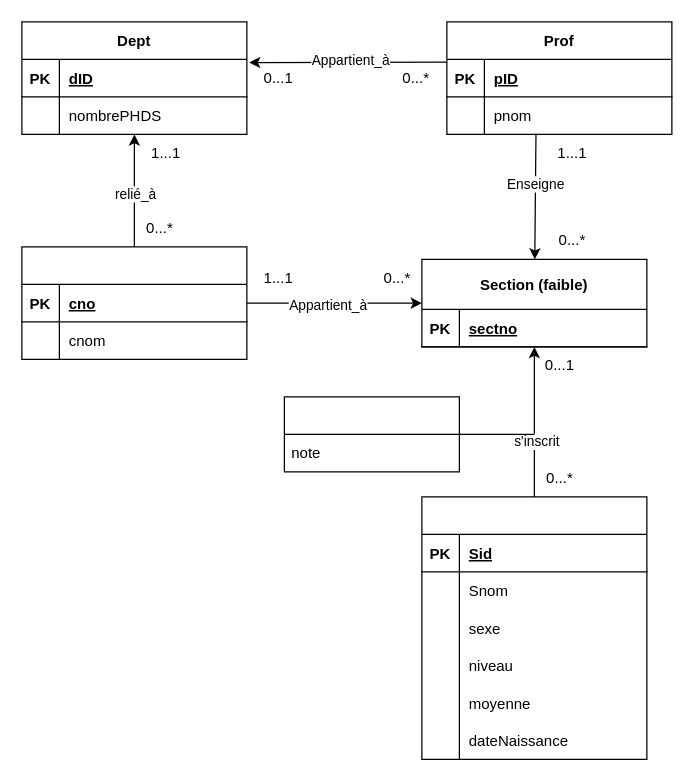
The diagram is 694 pixels wide and 781 high, and some of its shapes have lost their labels. The shapes that lost their labels are listed below. From the top down, each one's box as (x1, y1, x2, y2) in pixels, then its label:
(21, 246, 247, 359): Cours
(421, 496, 647, 759): Etudiant
